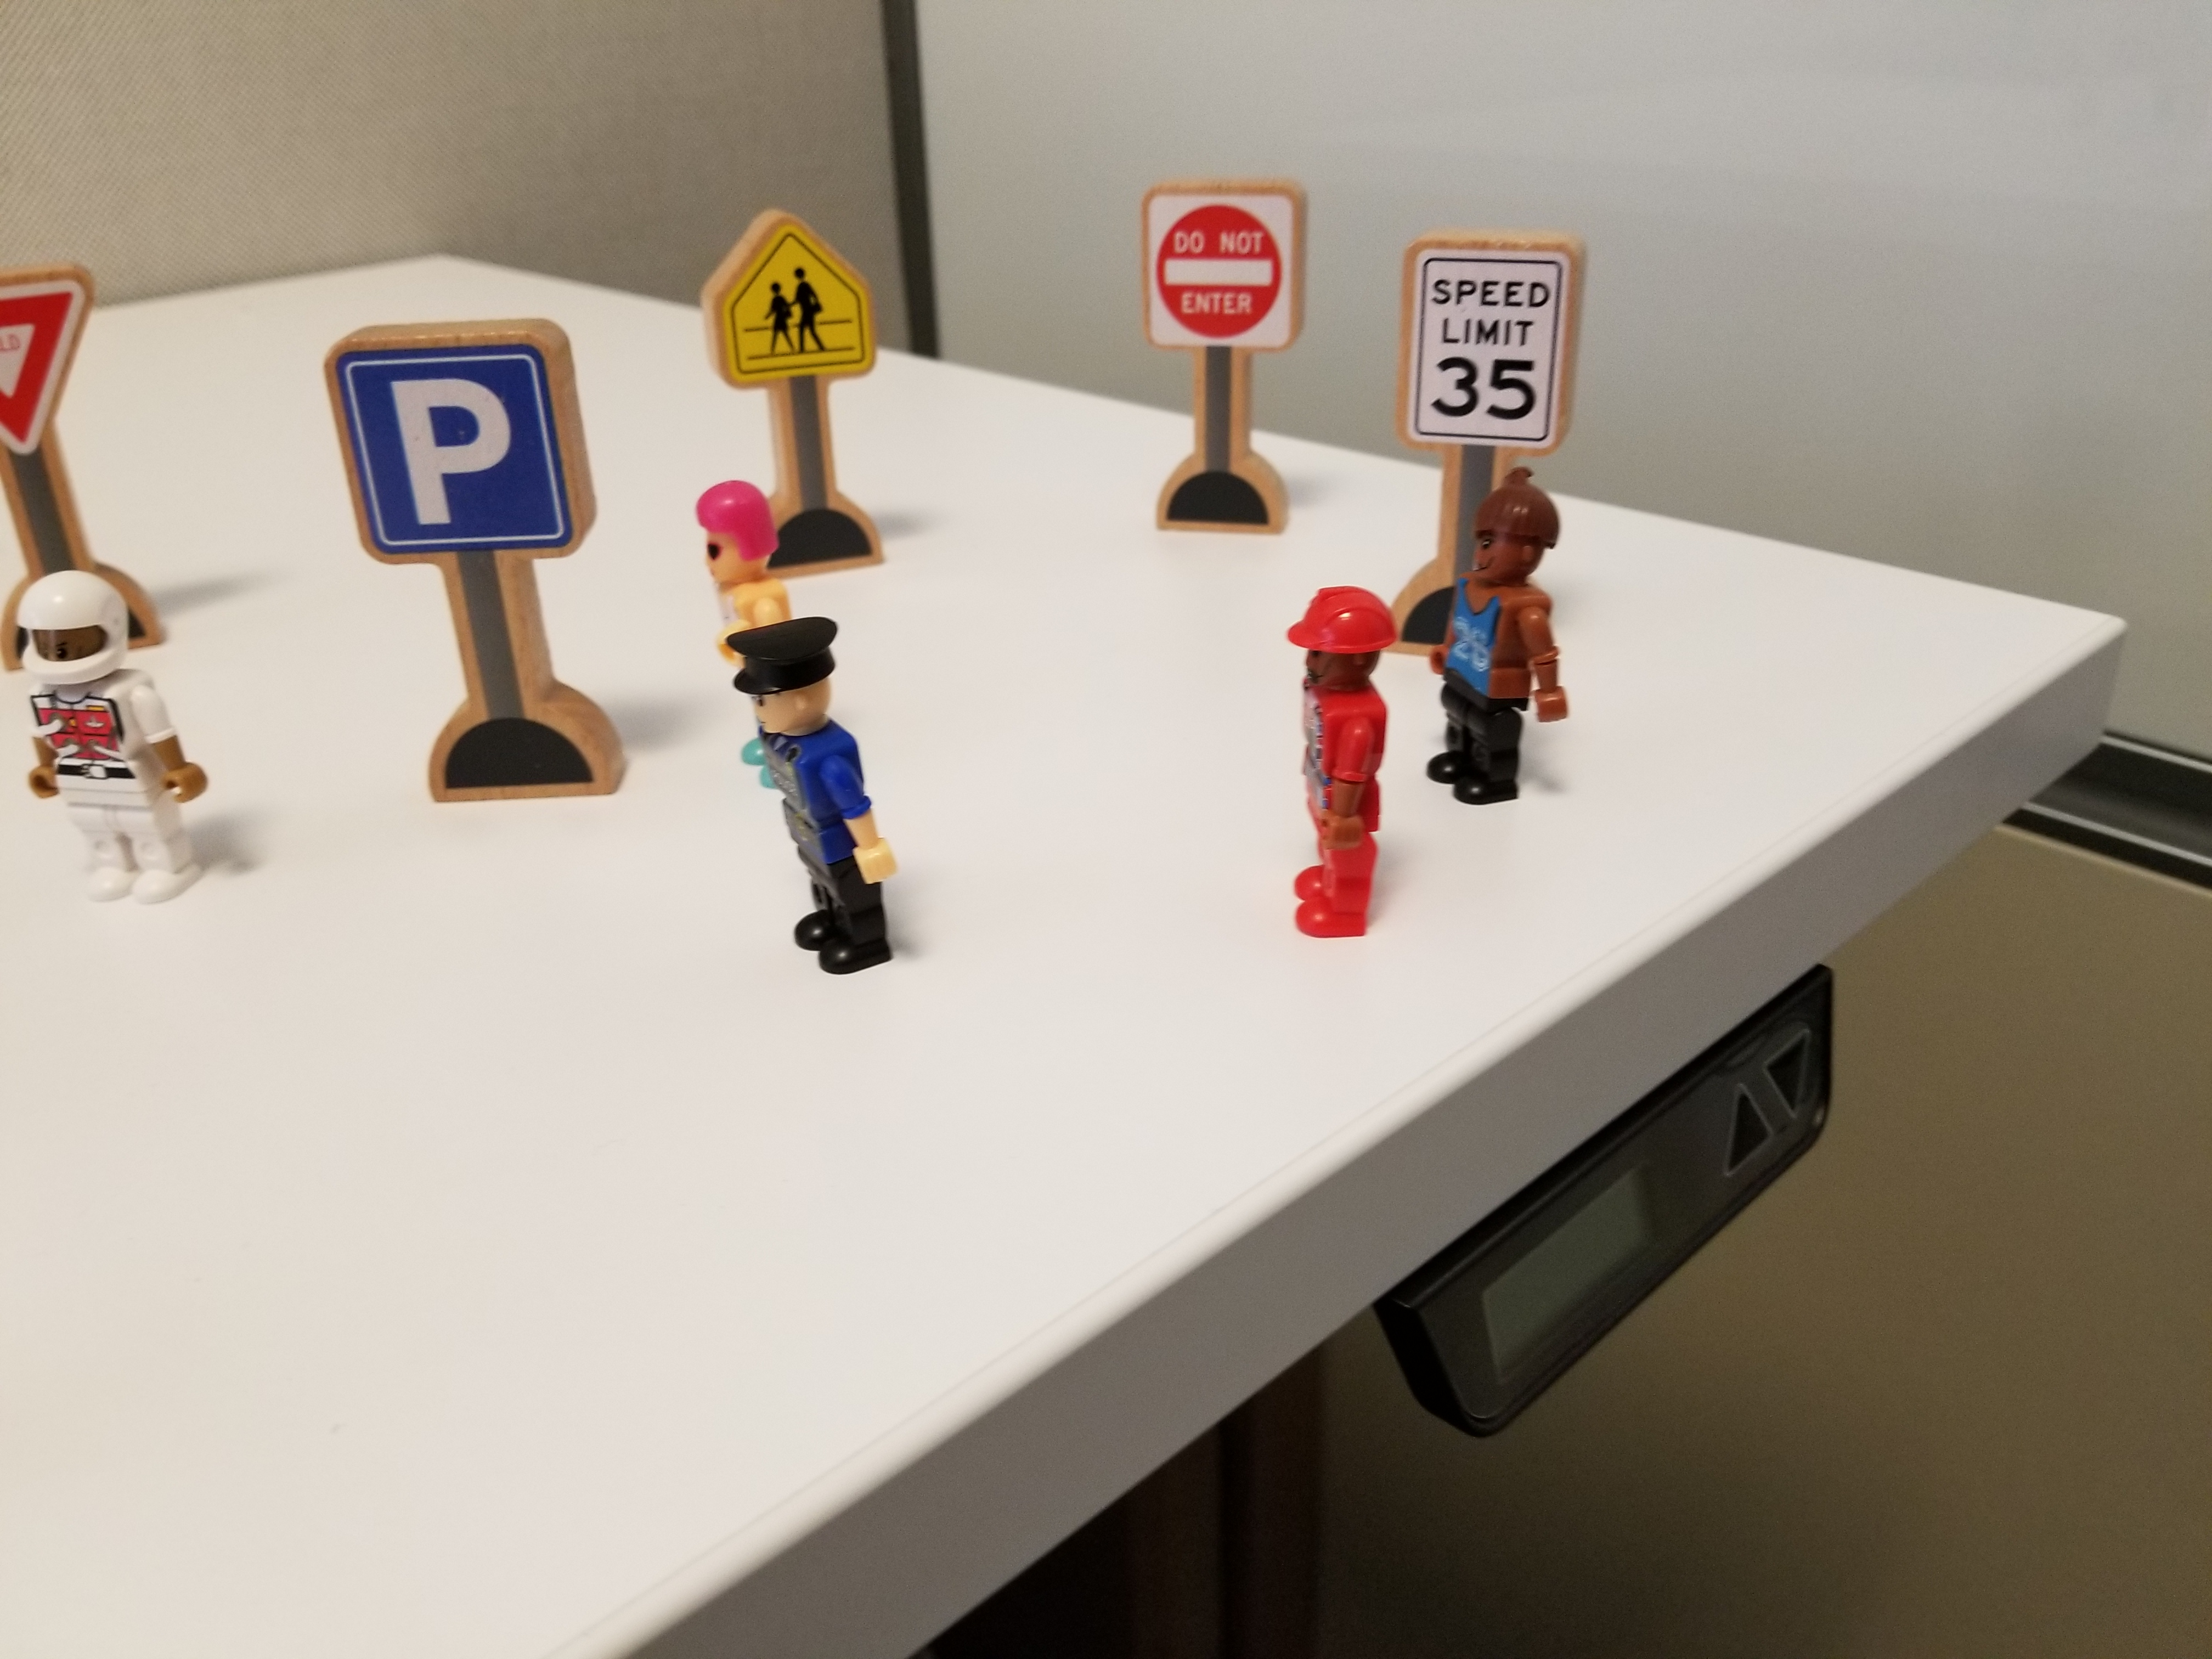Do not enter: (1111, 144, 1318, 530)
Parking: (302, 260, 659, 806)
Pedestrian crossing: (679, 177, 914, 453)
Speed limit 35: (1410, 205, 1621, 466)
person: (721, 618, 923, 1054), (5, 563, 227, 923), (1254, 550, 1403, 978), (1432, 460, 1561, 844), (673, 473, 804, 618)
